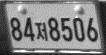0: (73, 17, 85, 41)
4: (23, 16, 35, 42)
5: (60, 16, 73, 41)
6: (86, 16, 99, 42)
8: (47, 16, 61, 42), (9, 16, 22, 41)
저: (34, 21, 49, 41)
